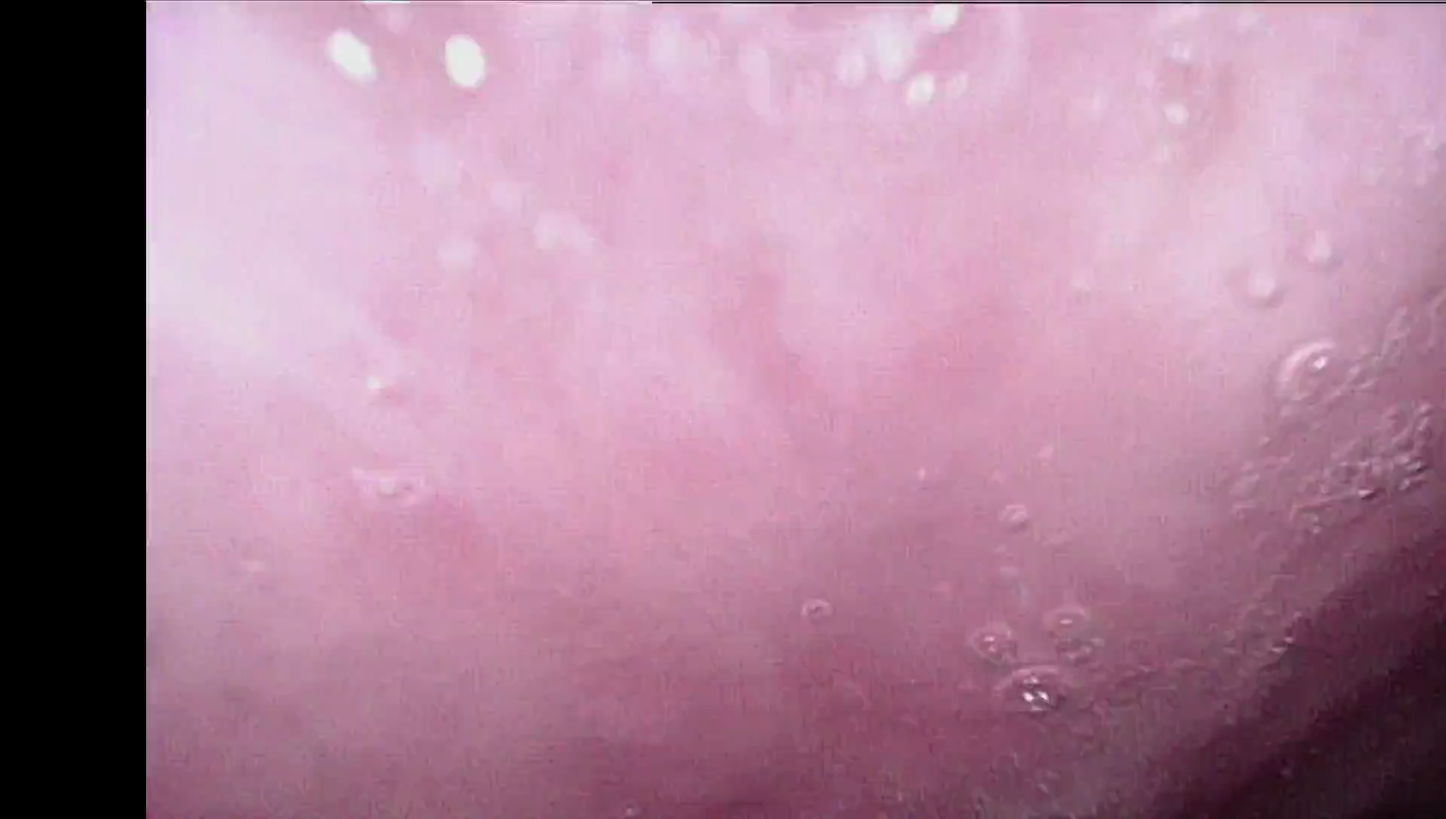close_wall: (154, 0, 1446, 486)
next: (1272, 654, 1446, 819)
